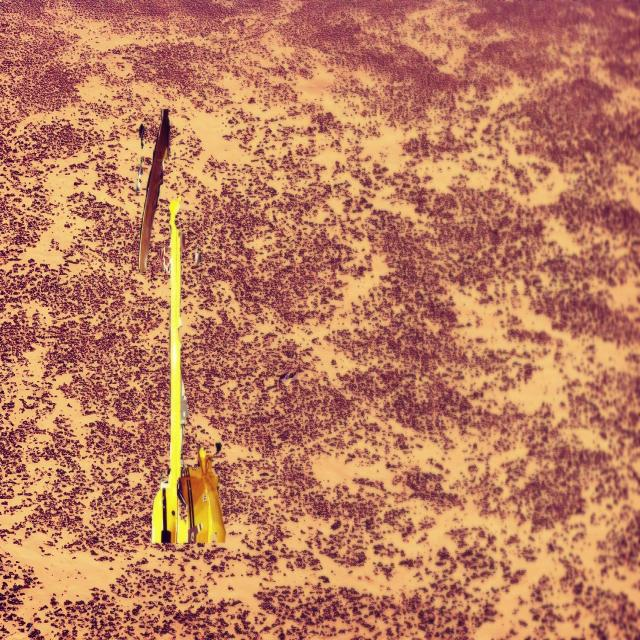airplane: (137, 109, 226, 542)
